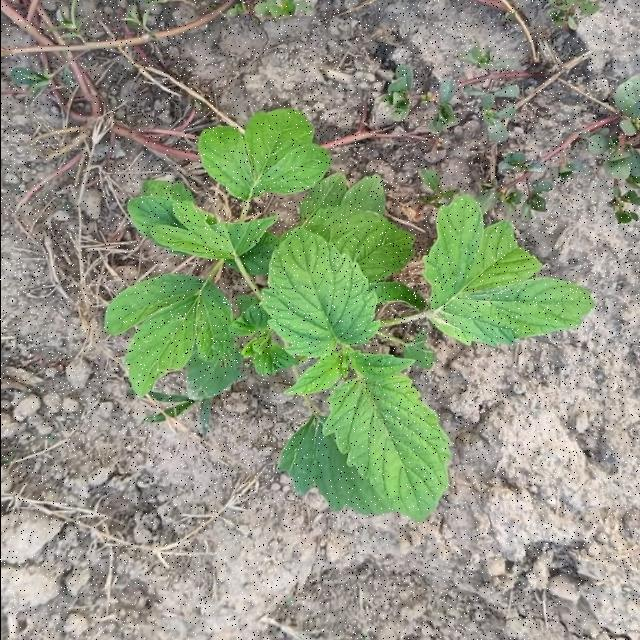plant: (129, 110, 593, 521), (105, 276, 235, 400)
